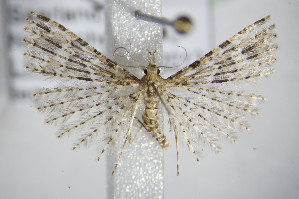Alucitidae: (21, 8, 278, 175)
moth: (19, 9, 276, 176)
